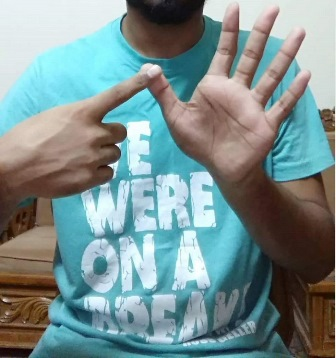a: (62, 2, 310, 184)
